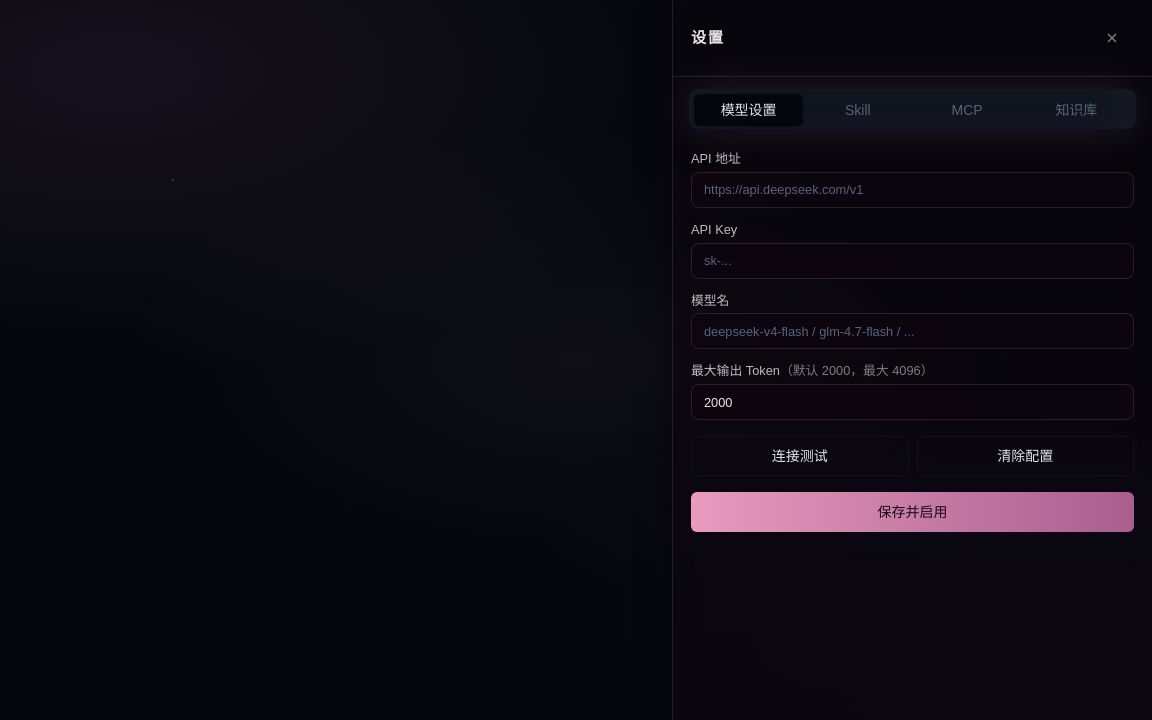
Scenario: AI 聊天 T-B：API Key 掩码输入框 › B-1. 输入长 Key 后 blur：显示 sk-***********************JKL（前3后3中间*）
In the field with placeholder "sk-...": (912, 261) [691,243,1134,279], type "sk-abcdefgh1234567890uvwxyzIJKL"
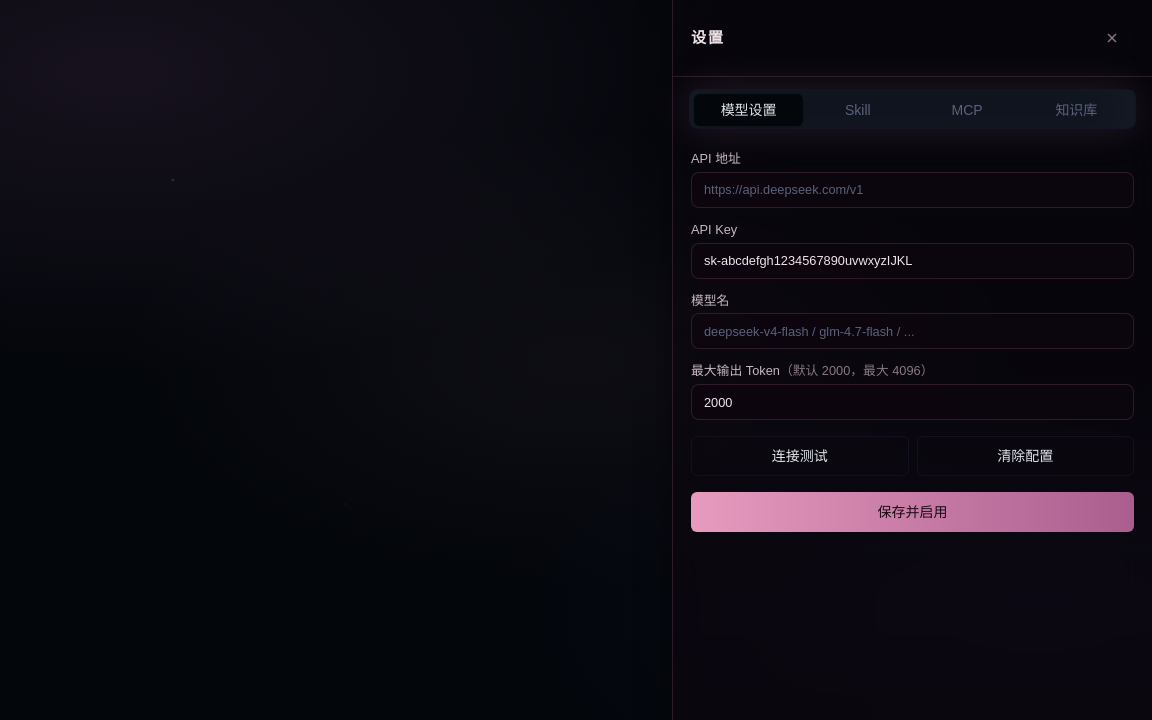
Leave the field with placeholder "sk-...", box [691,243,1134,279]
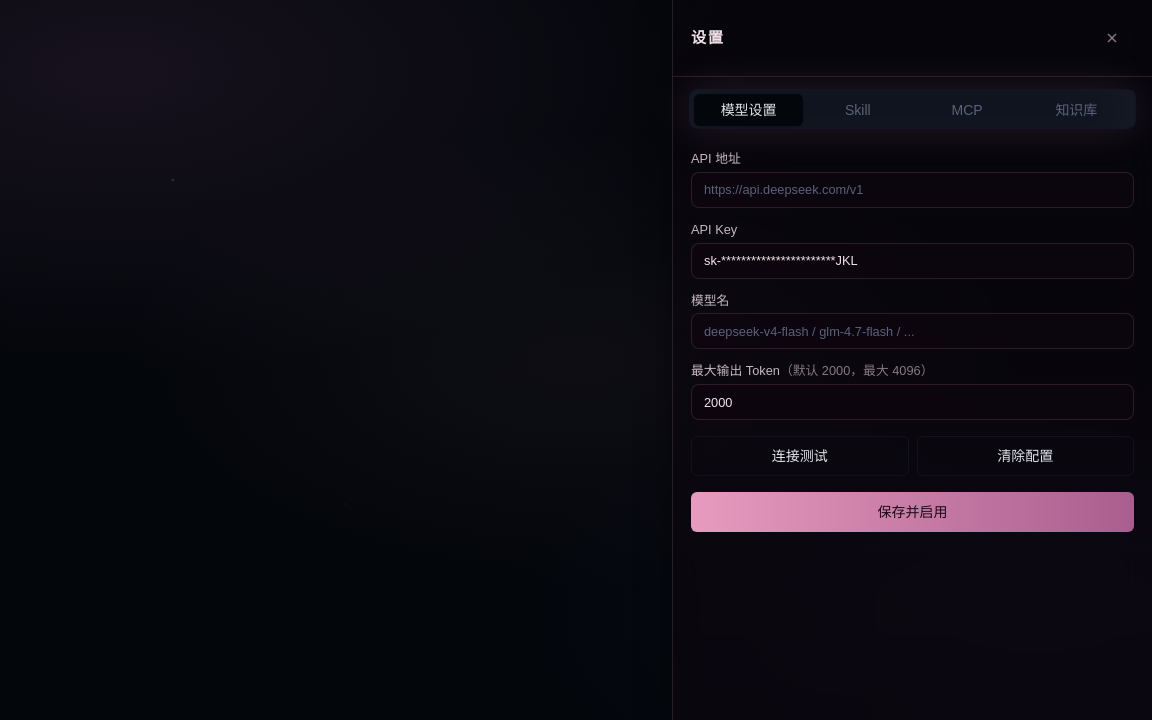
Check: the field with placeholder "sk-..." holds "sk-***********************JKL", box [691,243,1134,279]
